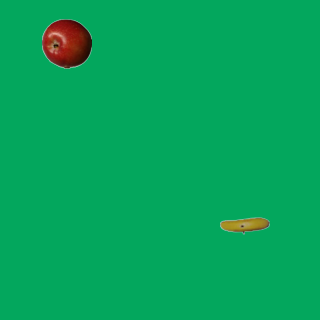Apple Braeburn: (41, 18, 91, 68)
Banana: (219, 200, 269, 250)
